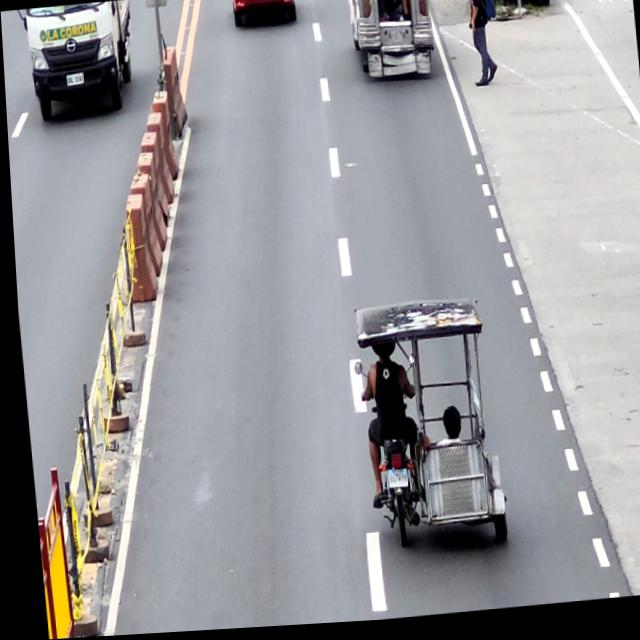Jeep: (344, 0, 436, 84)
License-Plate: (380, 472, 403, 494)
Tricycle: (345, 297, 502, 554)
